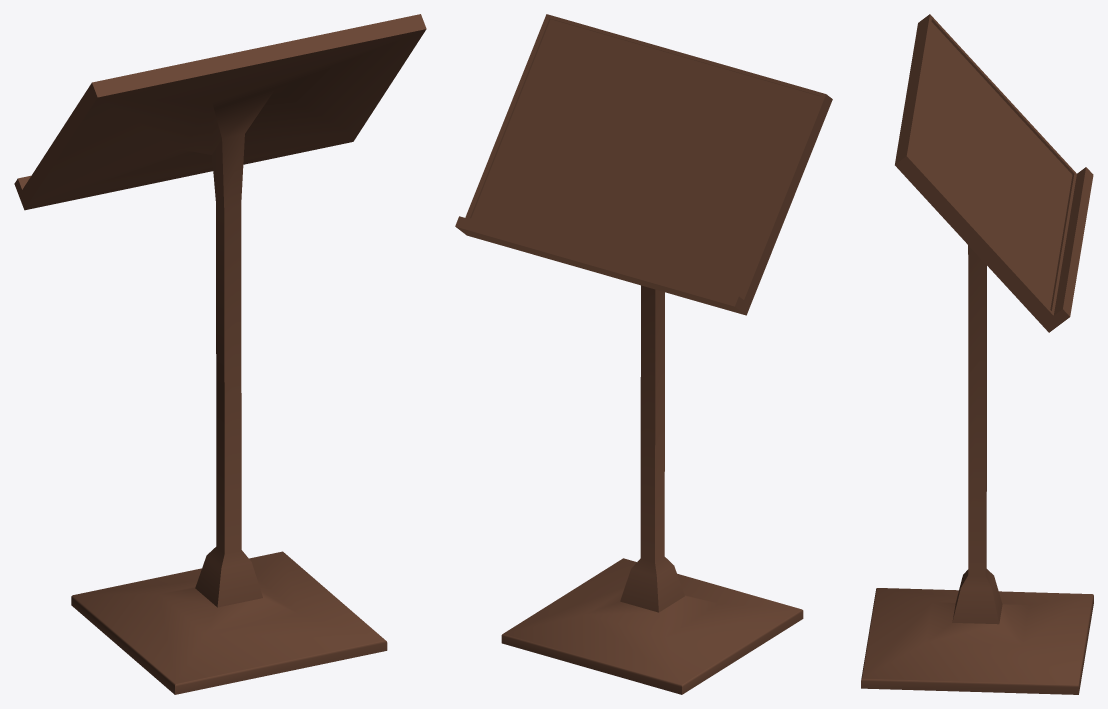
The model's file is bookstand.fbx.
The picture shows the model from 3 angles, left to right: view 1: azimuth 30°, elevation 25°; view 2: azimuth 150°, elevation 25°; view 3: azimuth 270°, elevation 25°; orthographic projection. The views are drawn at different scales.
Visible parts, largest first — view 1: bookstand; view 2: bookstand; view 3: bookstand.
Part boxes in pixels (left/top/right/bottom): bookstand: left=14, top=14, right=426, bottom=694; bookstand: left=455, top=14, right=832, bottom=694; bookstand: left=861, top=14, right=1093, bottom=694.
Bounding box in the file's own units: 160 × 283 × 107.
